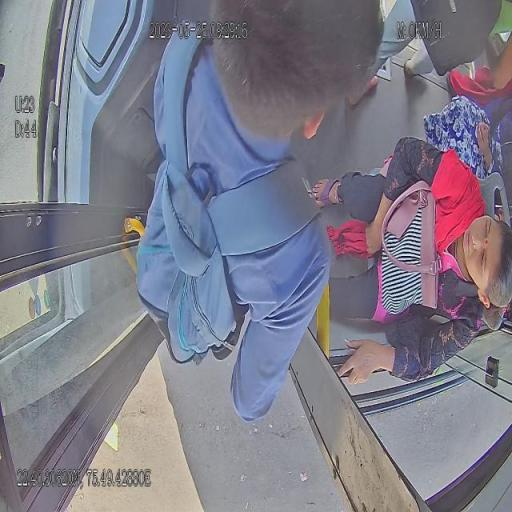persona: (134, 1, 387, 424), (308, 135, 511, 387), (308, 134, 511, 332), (422, 93, 504, 182)
